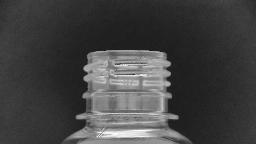No Cap: (68, 46, 184, 126)
